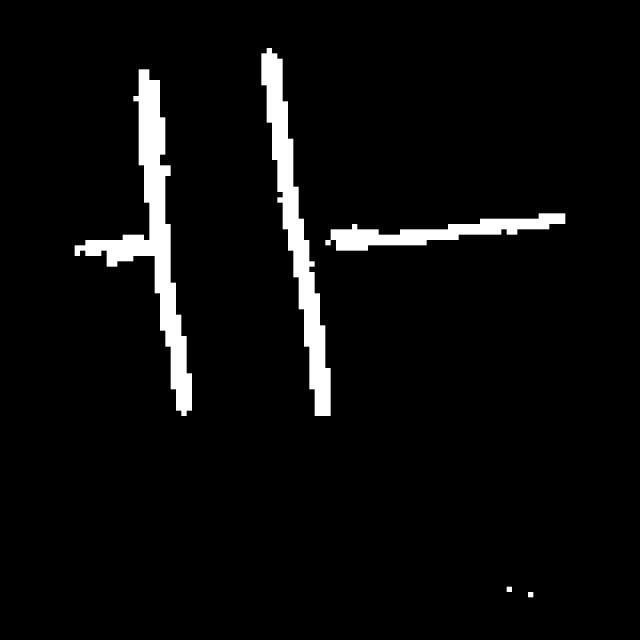capacitor: (129, 39, 343, 442)
